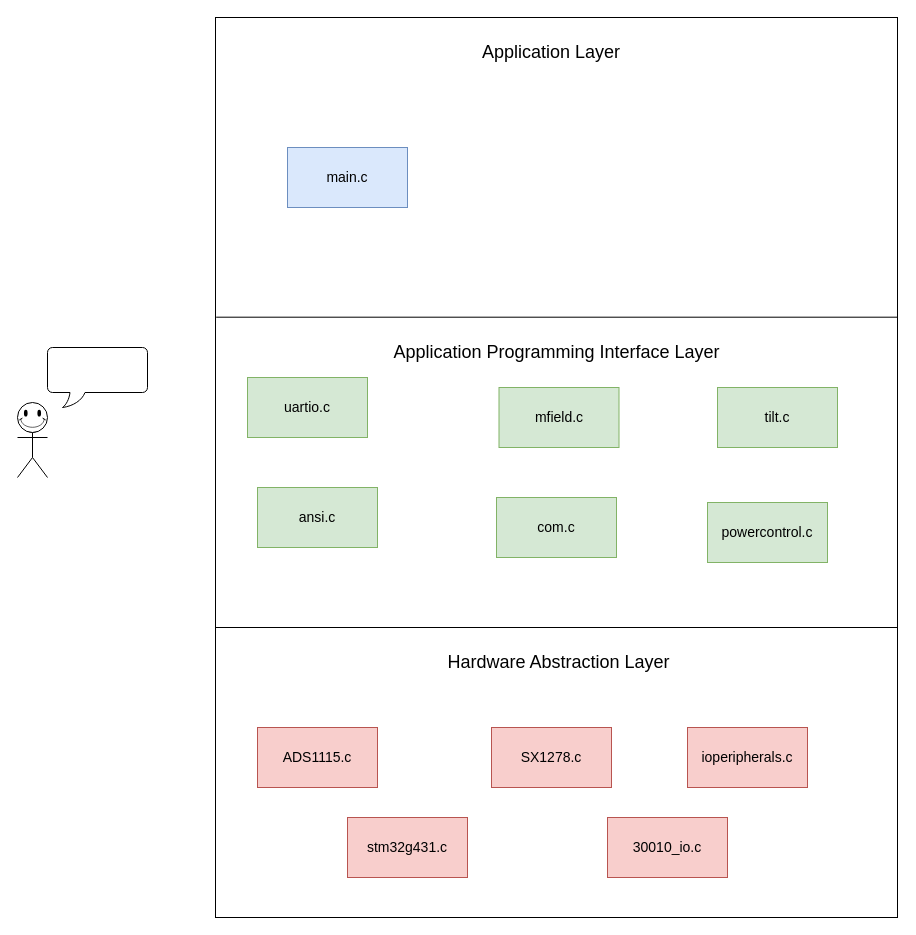
Some shapes in this 916 by 935 pixel diagram are drawn without their labels. Here are the shapes that lost their labels. From the top down, the box of each, then its label:
(46, 346, 148, 408): wow
(16, 416, 48, 478): Emil
